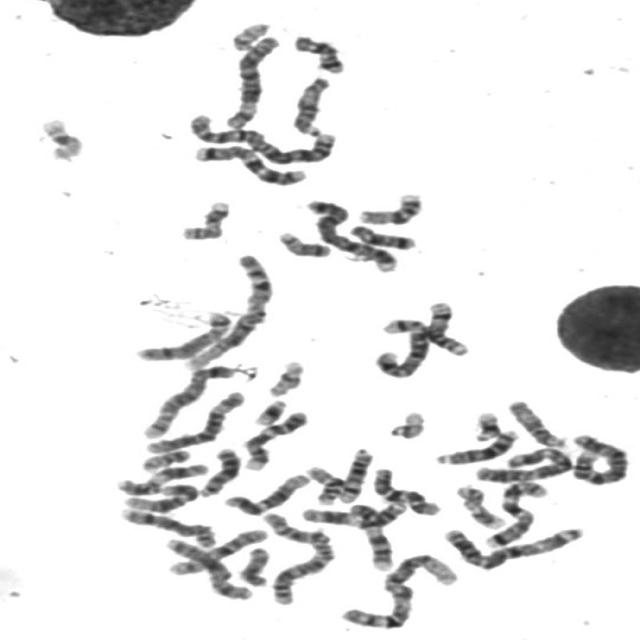A1: (179, 249, 278, 372), (334, 547, 463, 631)
A2: (182, 108, 342, 166), (255, 506, 340, 607)
A3: (437, 520, 590, 571), (470, 442, 577, 484)
B4: (302, 194, 401, 273), (564, 430, 629, 489)
B5: (138, 359, 241, 440), (369, 312, 436, 379)
C10: (163, 524, 272, 576), (367, 463, 445, 517)
C11: (110, 458, 212, 497), (297, 496, 412, 528)
C12: (218, 468, 314, 516), (116, 477, 202, 513)
C6: (140, 386, 251, 454), (218, 30, 284, 131)
C7: (188, 139, 312, 187), (480, 476, 553, 550)
C8: (131, 306, 236, 363), (114, 502, 221, 550)
C9: (238, 406, 312, 471), (346, 499, 398, 573)
D13: (431, 424, 522, 466), (193, 442, 244, 497)
D14: (376, 314, 474, 357), (332, 443, 379, 504)
D15: (502, 395, 572, 450), (286, 71, 335, 138)
E16: (352, 188, 428, 226), (300, 460, 350, 505)
E17: (451, 479, 508, 530), (176, 196, 234, 242)
E18: (287, 30, 349, 75), (344, 220, 419, 252)
F19: (34, 112, 89, 161), (262, 355, 310, 398)
F20: (273, 226, 336, 258), (135, 444, 195, 472)
G21: (248, 394, 292, 426), (468, 406, 506, 442)
G22: (226, 16, 276, 52), (384, 406, 431, 440)
X: (160, 533, 258, 603)
Y: (235, 542, 276, 588)
